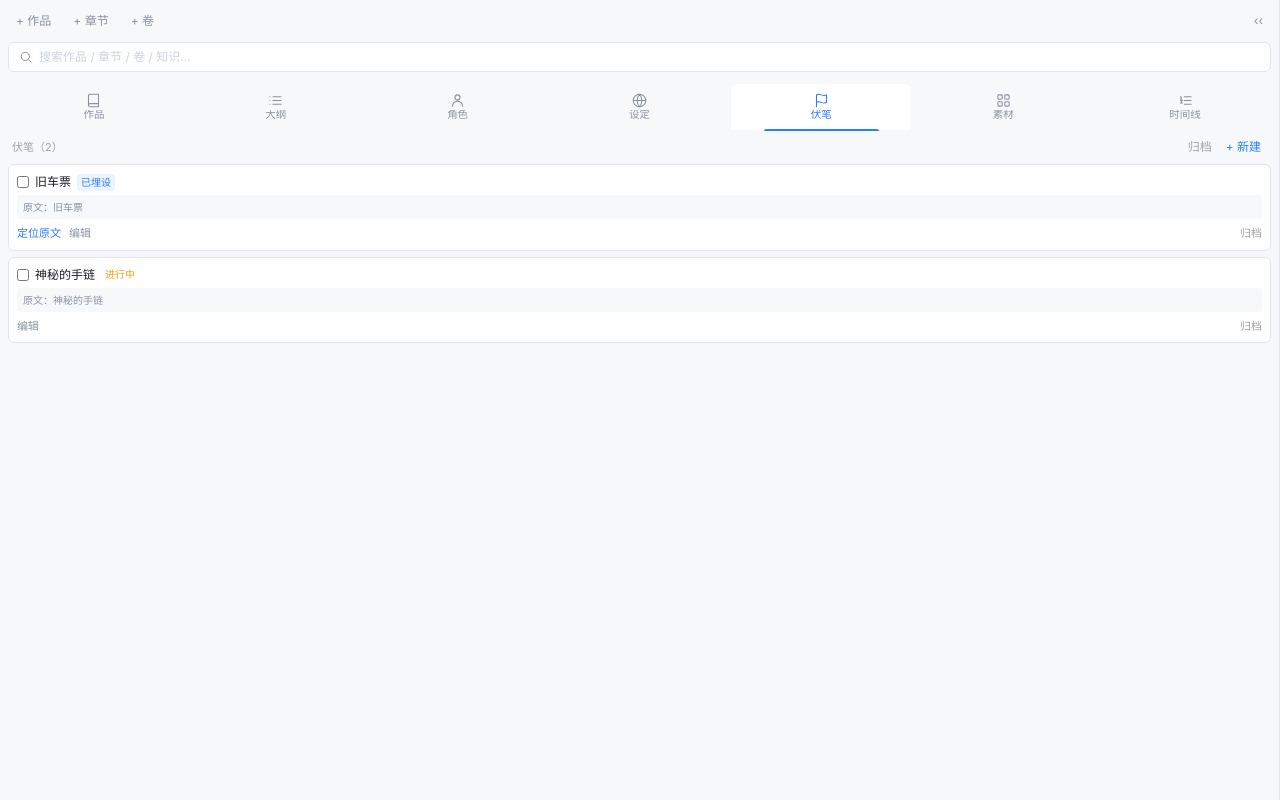
Test: 伏笔归档：单条归档 / 归档池检索 / 恢复 › 卡片「归档」→ 保存 archived 标志并移出活跃列表
Click the 2nd button titled "归档（移入归档池，保留完整数据）" at {"x": 1251, "y": 233}, box [1240,225,1262,242]
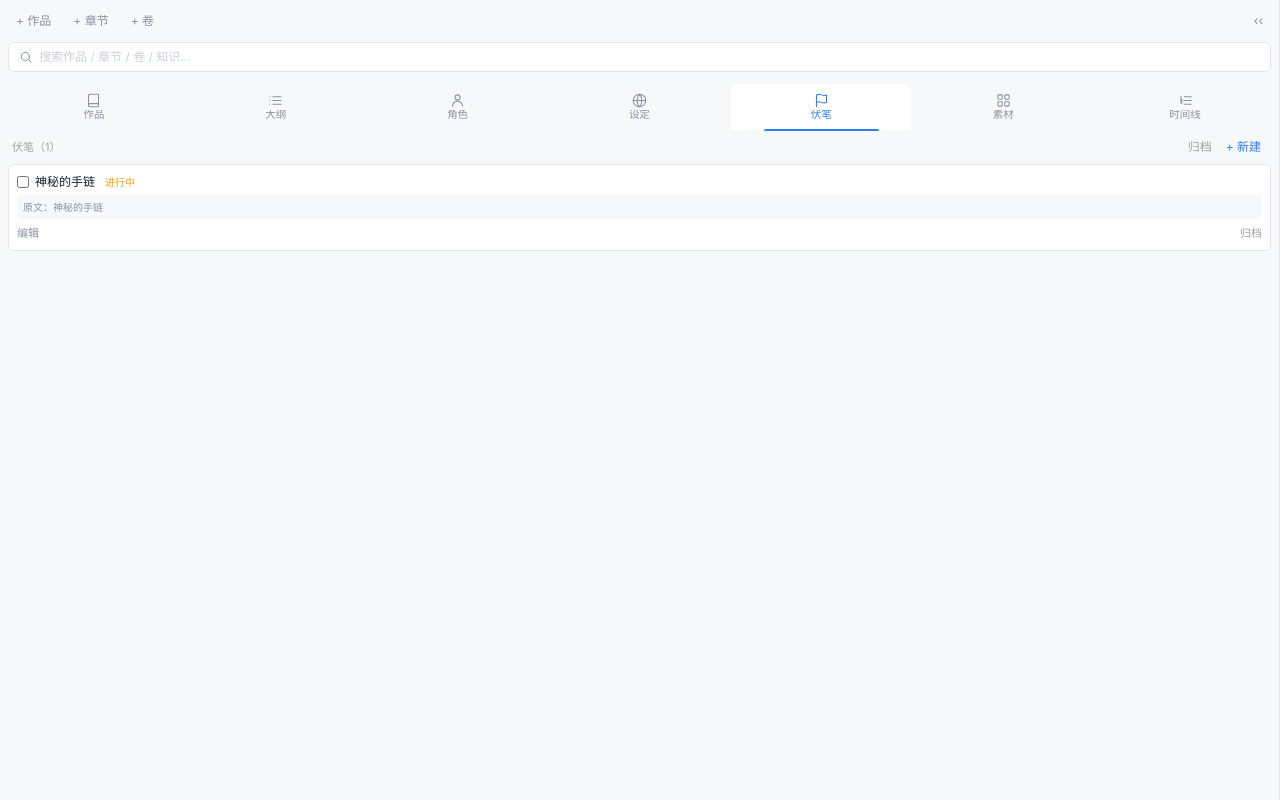
Expected: the text "神秘的手链" is shown, [35,173,95,191]
Expected: the text "旧车票" is gone
